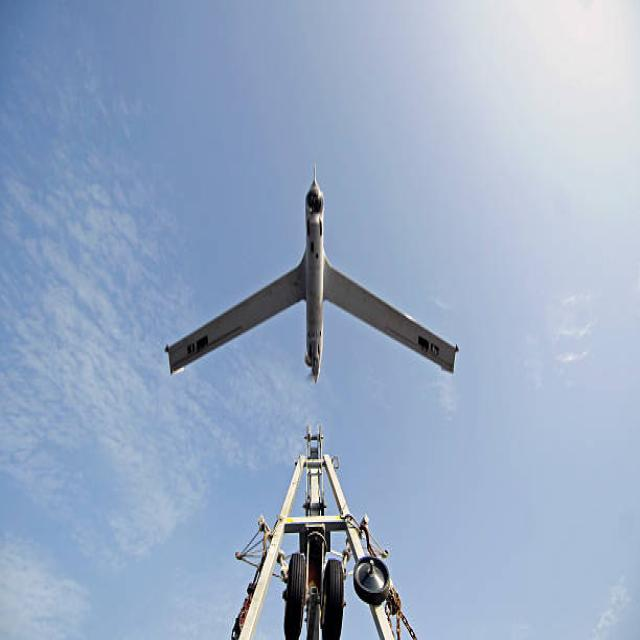iha: (165, 165, 460, 386)
